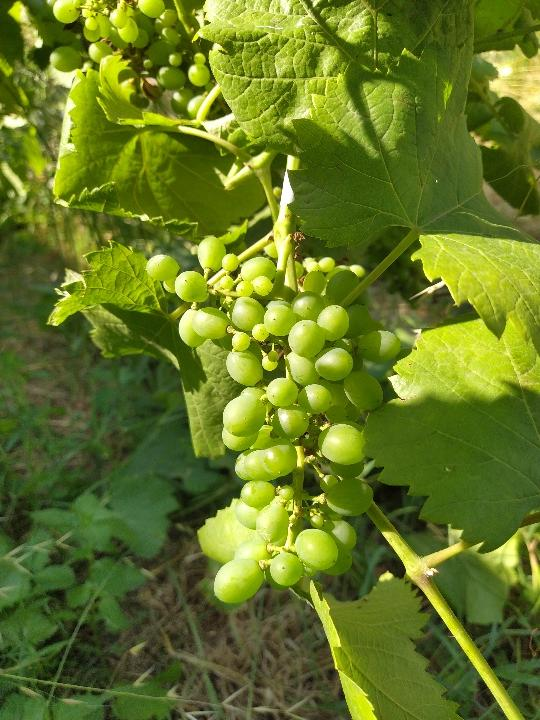grape: (142, 231, 409, 606)
